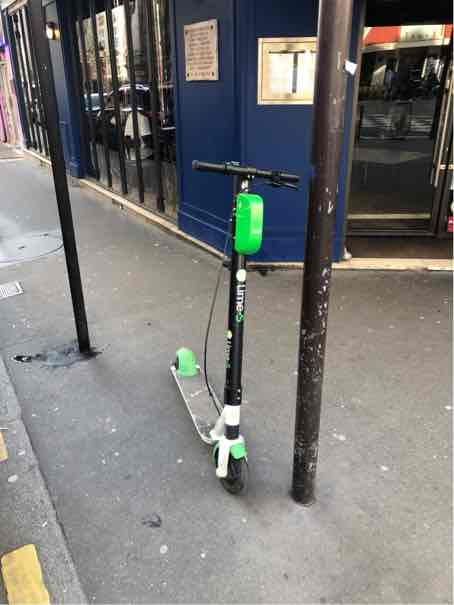scooter: (165, 156, 308, 507)
